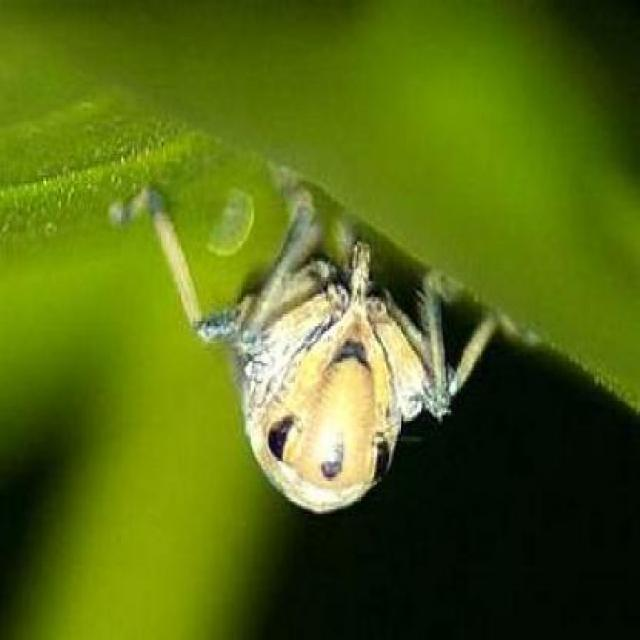green-leafhopper: (157, 172, 488, 508)
